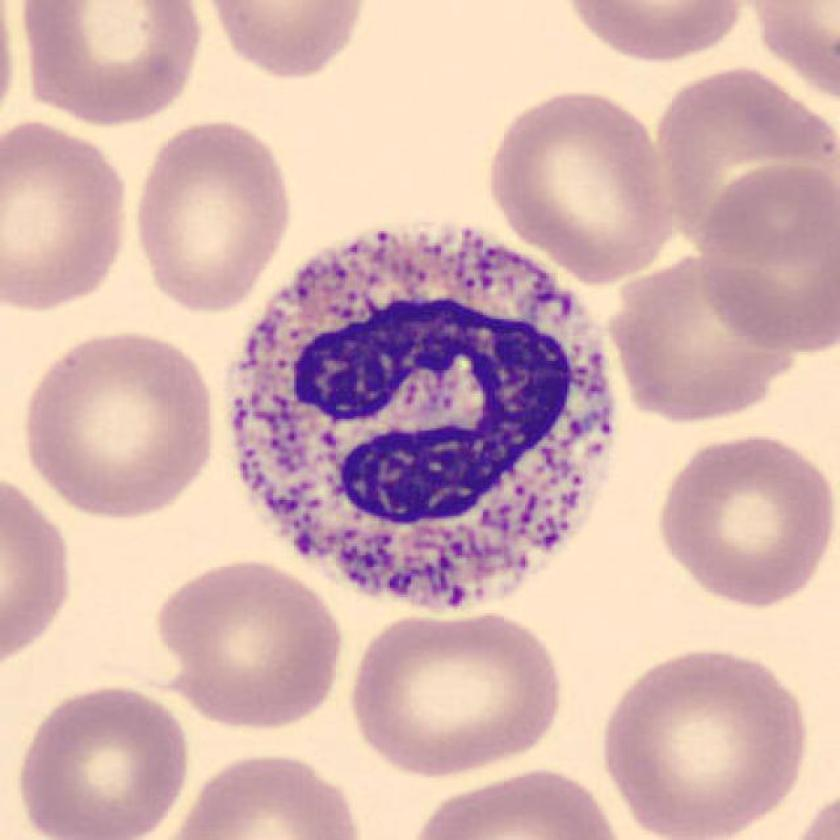neutrophil: (231, 228, 617, 607)
